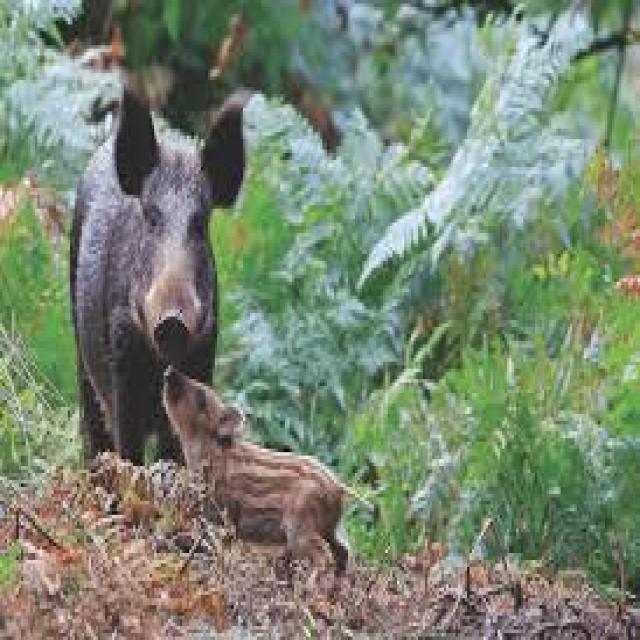Boar: (68, 113, 220, 515), (162, 370, 347, 579)
